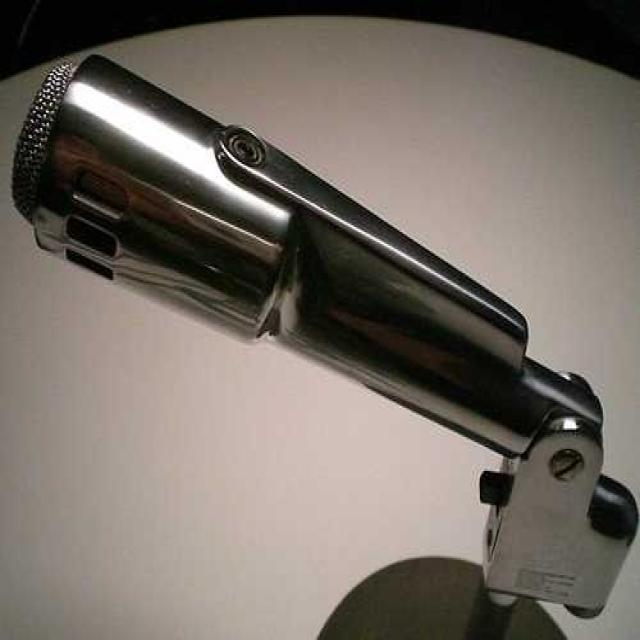microphone: (22, 60, 568, 460), (41, 54, 275, 242)
